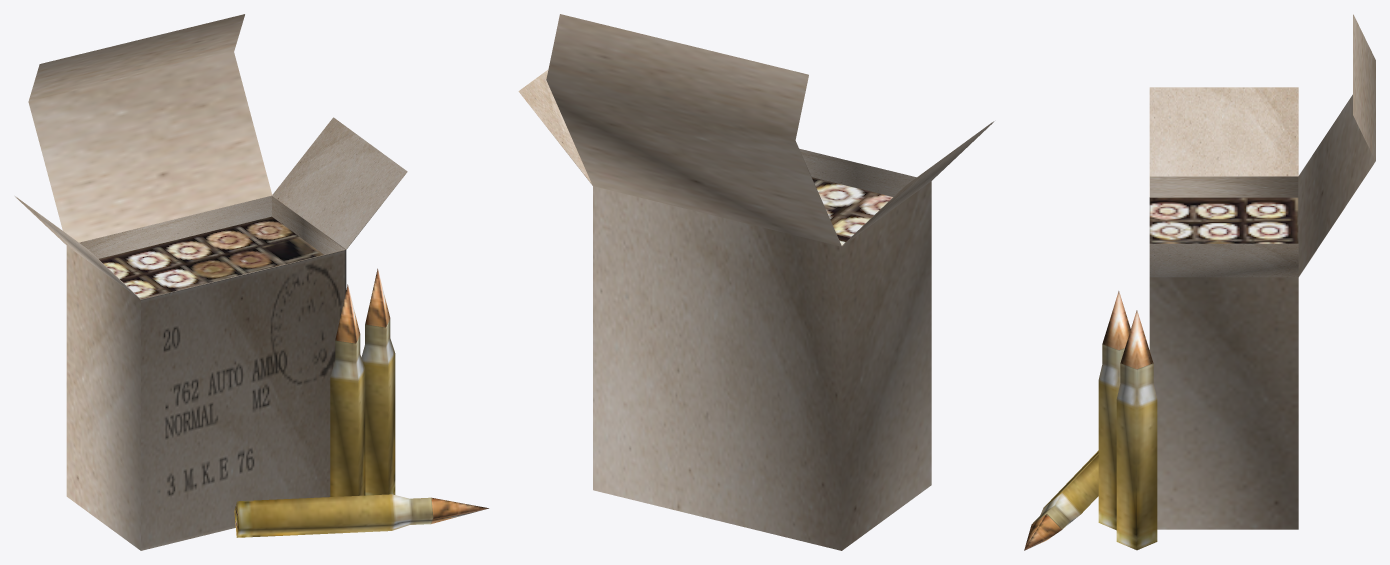
The model's file is ammo_auto.glb.
The picture shows the model from 3 angles, left to right: view 1: azimuth 30°, elevation 25°; view 2: azimuth 150°, elevation 25°; view 3: azimuth 270°, elevation 25°; orthographic projection. The views are drawn at different scales.
Visible parts, largest first — view 1: Auto_Ammo_Box; view 2: Auto_Ammo_Box; view 3: Auto_Ammo_Box.
Part boxes in pixels (x1,y1,x2,y2): Auto_Ammo_Box: [15, 14, 488, 550]; Auto_Ammo_Box: [518, 14, 994, 550]; Auto_Ammo_Box: [1024, 14, 1375, 550].
Size of the model in its own units: 0.4066 by 0.4728 by 0.3634.
2 materials, 2 textured.
